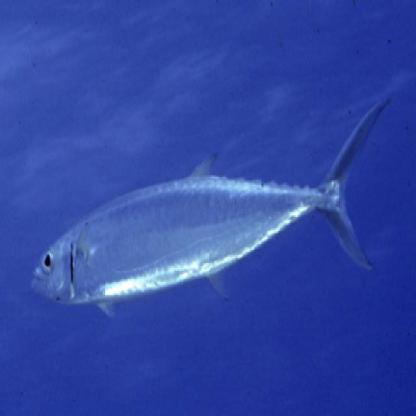tuna: (28, 91, 398, 322)
